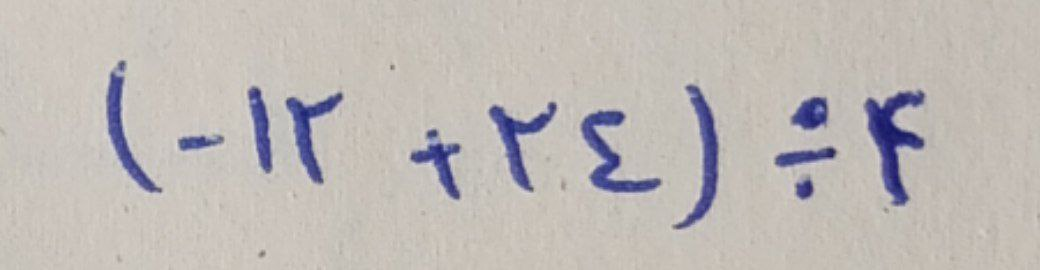character: (854, 84, 930, 213), (766, 86, 842, 208), (103, 52, 163, 196), (577, 107, 667, 194), (482, 98, 562, 194), (671, 79, 720, 232), (278, 81, 348, 187), (409, 122, 468, 204), (243, 81, 276, 179), (174, 129, 232, 153)
